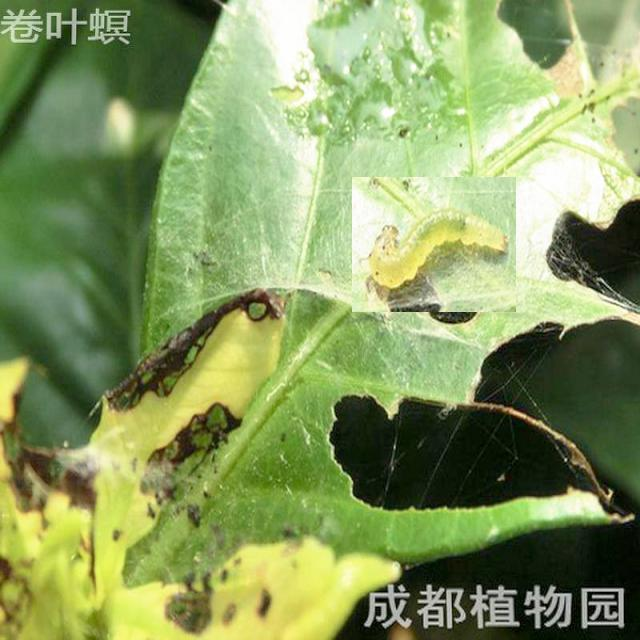leaf-folder: (352, 177, 516, 312)
